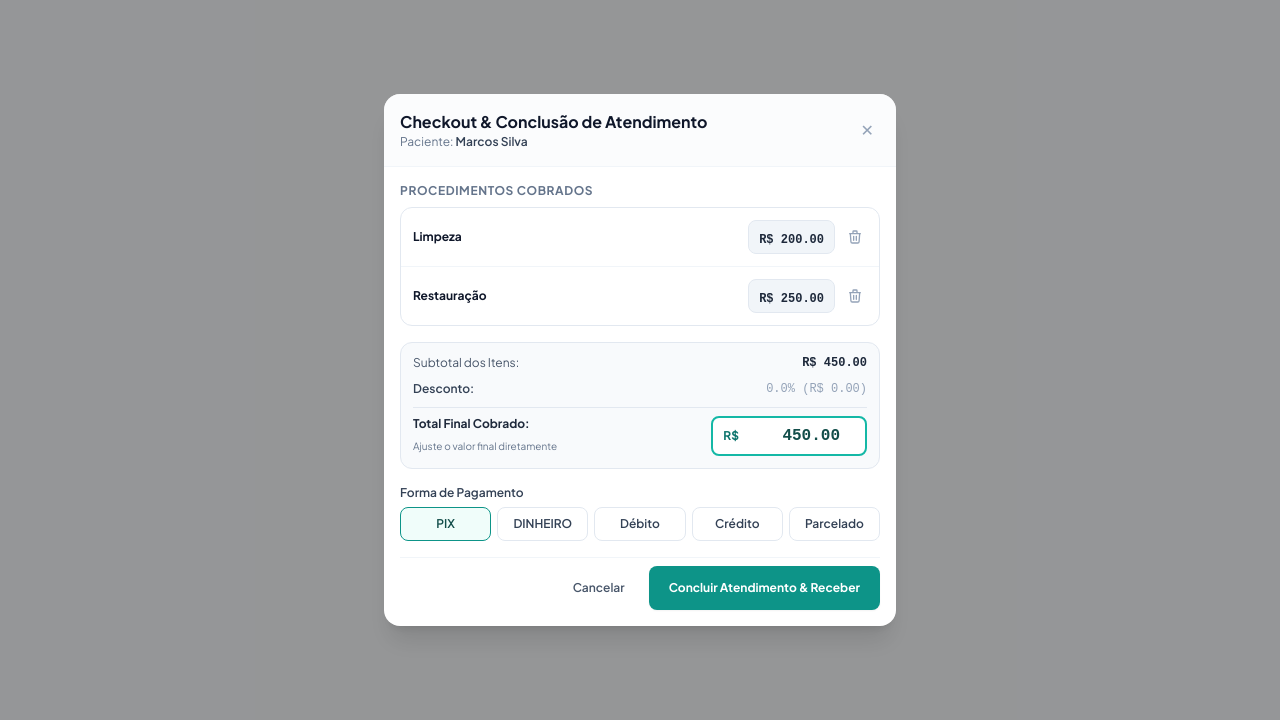
Test: Sprint FE-3: Checkout Financeiro, Rateio de Descontos e Retorno Inteligente › AC-065: Edição Individual de Procedimentos e Rateio Automático de Desconto Geral (R$ e %) @spec:AC-065
The width and height of the screenshot is (1280, 720).
Check: the heading "Checkout & Conclusão de Atendimento" is shown, box [400,110,708,134]
Check: the heading "Limpeza" is shown, box [413,229,462,244]
Aplica desconto no Total digitando diretamente R$ 400.00 no Total Final Cobrado
Replace the text in the number field named "Total final" with "400.00" at [799, 436], box [743,424,855,448]
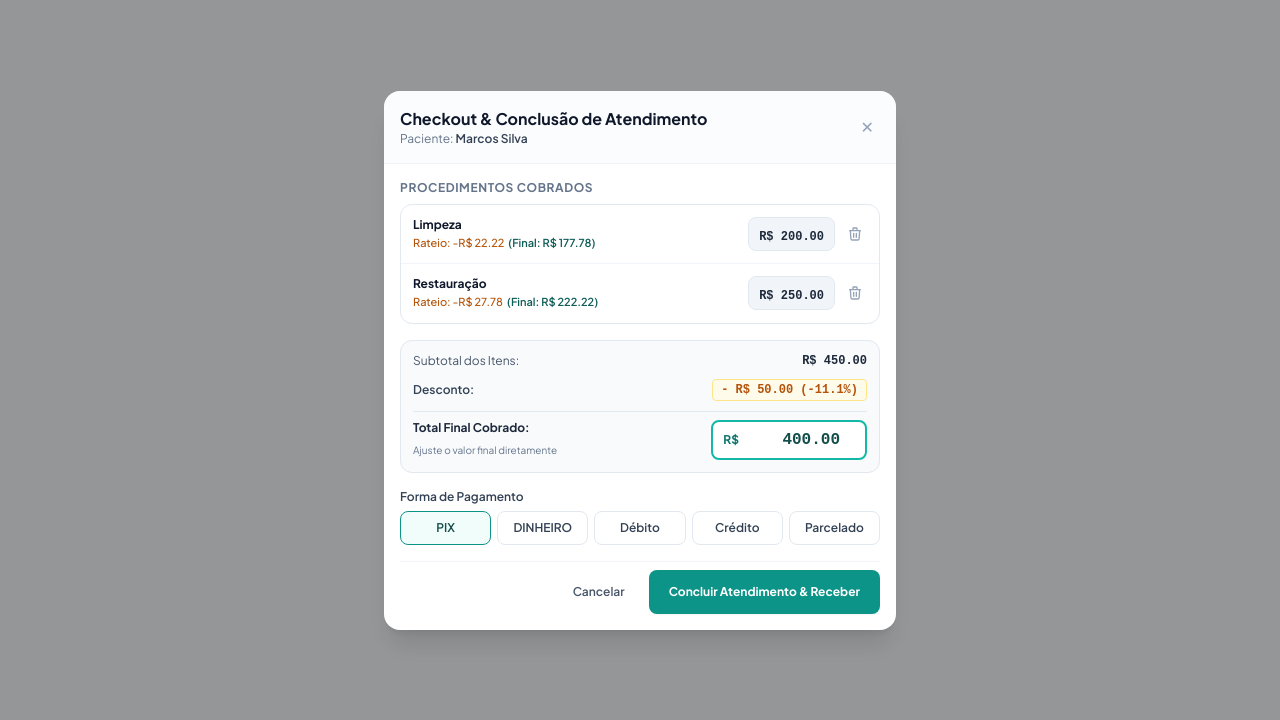
Check: the text "Rateio: -R$ 22.22" is shown 2 times, box [413,234,504,251]; [413,294,503,310]
Remove o item "Limpeza"
Click the button named "Remover Limpeza" at [855, 234], box [843,222,867,246]
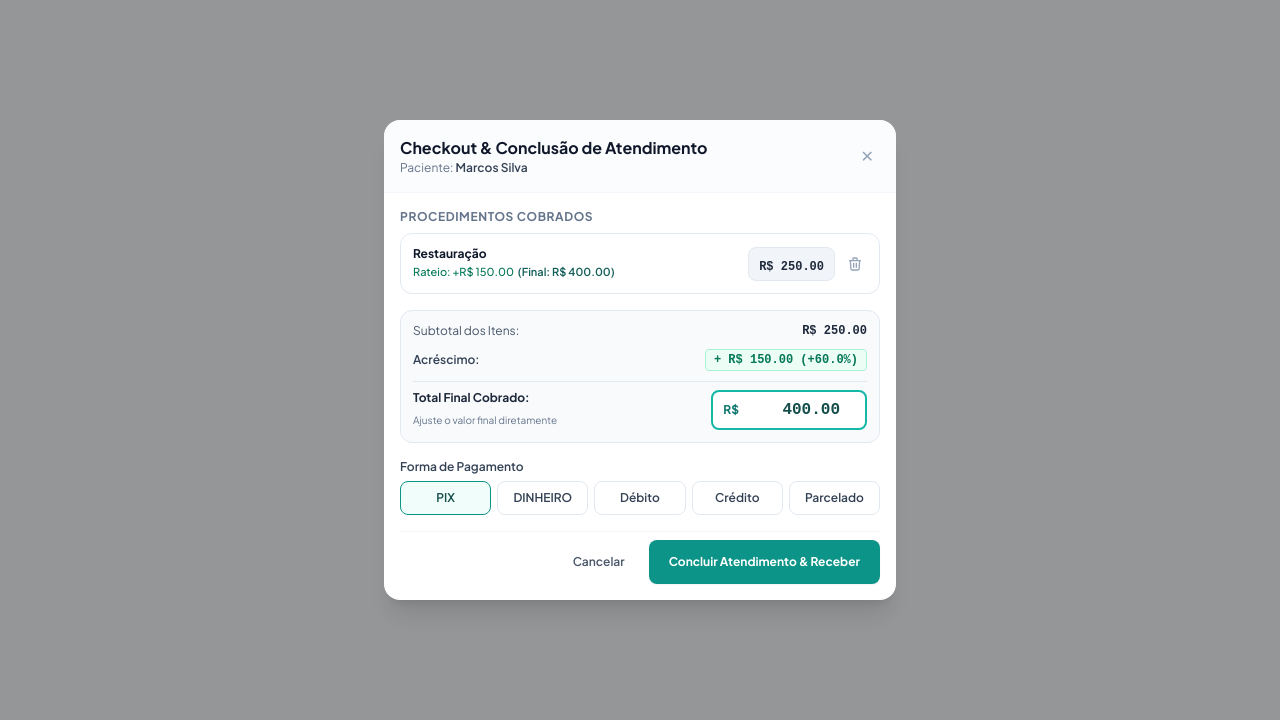
Check: the heading "Restauração" is shown, box [413,246,487,261]
Check: the heading "Limpeza" is gone
